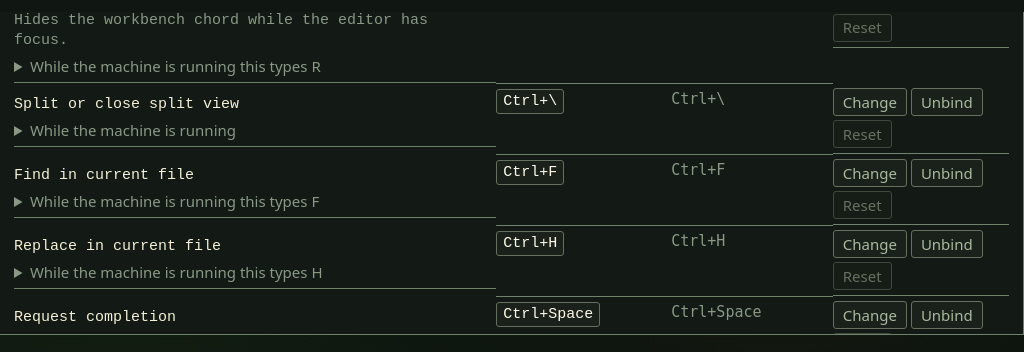
Test: KeyboardShortcutsPanel › unbinds a chord and restores it from the declared default
(page scrolled)
Step 1. Click the button "Unbind" in the row of "Find in current file" → [947, 173], box x1=911 y1=159 x2=983 y2=187
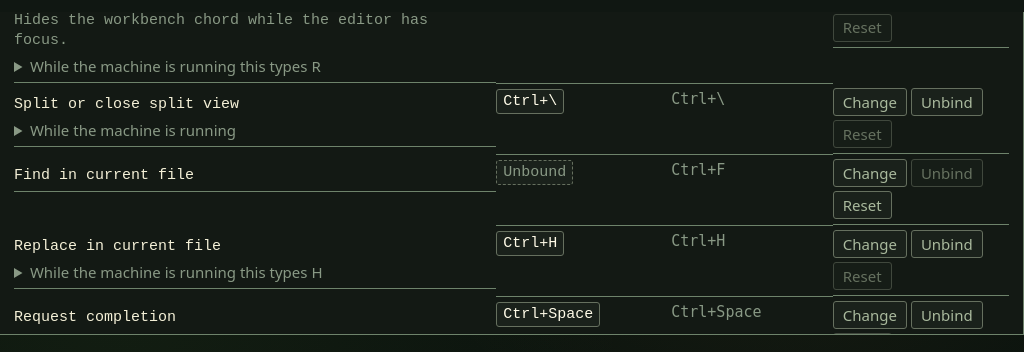
Expected: the text "Unbound" is shown, x1=496 y1=160 x2=573 y2=185
Step 2. Click the button "Reset" below "Ctrl+F" → [862, 205], box x1=833 y1=191 x2=892 y2=219
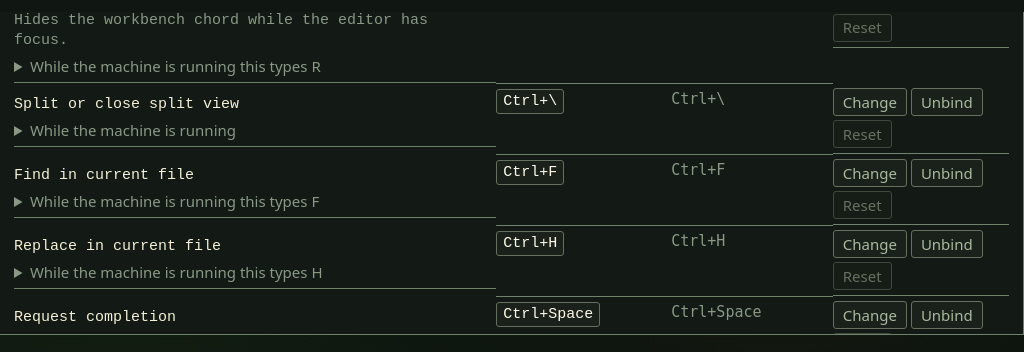
Expected: the 1st text "Ctrl+F" is shown, x1=496 y1=160 x2=564 y2=185
